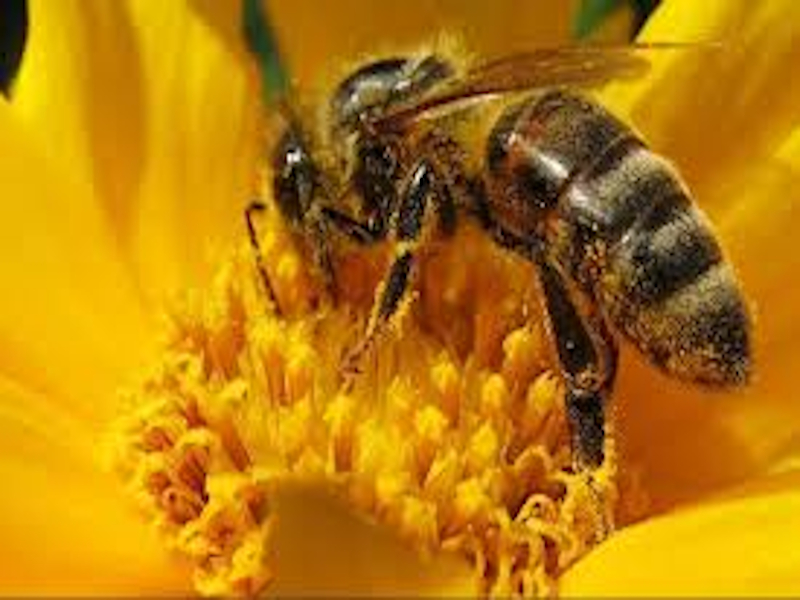abeja: (249, 36, 790, 492)
